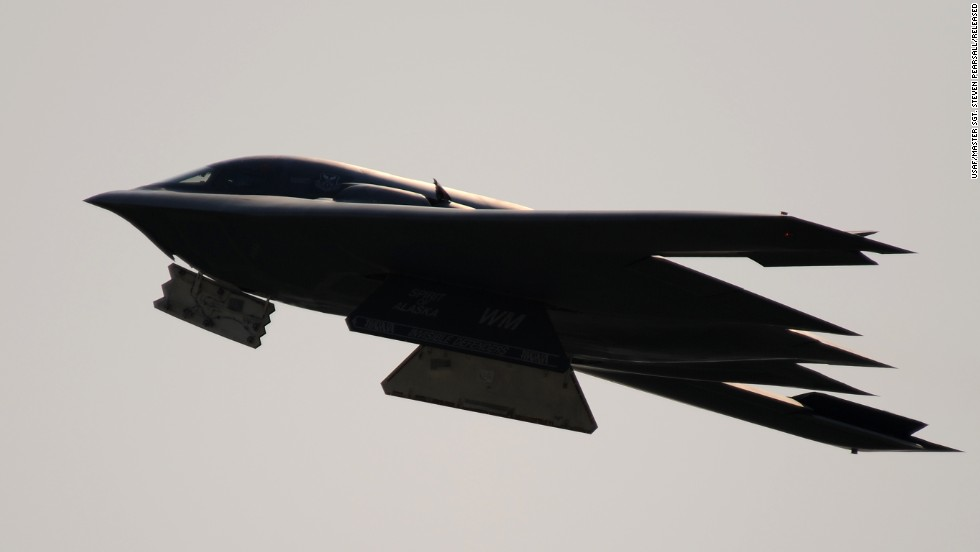B2: (81, 154, 966, 454)
